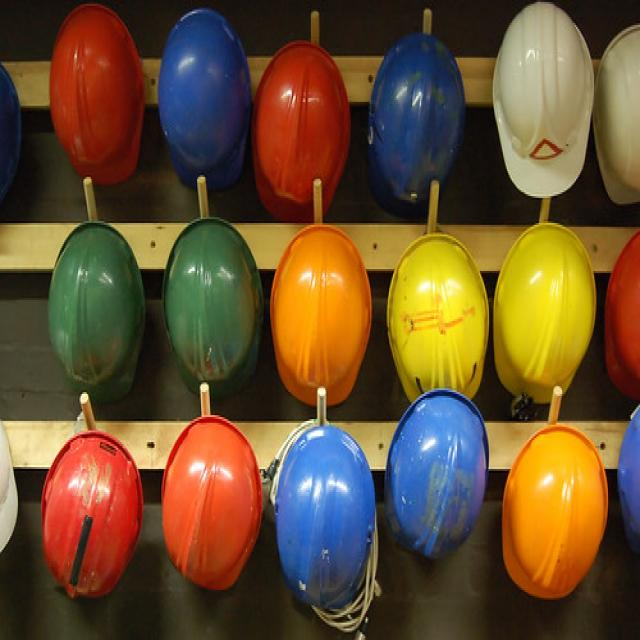Reflective-Jacket: (591, 13, 640, 210)
Safety-Helmet: (265, 425, 378, 630), (495, 422, 614, 603), (157, 213, 265, 400), (489, 4, 593, 198), (156, 411, 265, 596), (36, 425, 148, 605), (267, 223, 373, 407), (382, 228, 492, 404), (382, 384, 491, 560), (493, 221, 595, 404), (155, 6, 253, 190), (44, 4, 144, 184), (250, 39, 350, 219), (363, 28, 464, 203), (48, 217, 137, 394), (591, 15, 640, 212), (603, 223, 639, 402)
